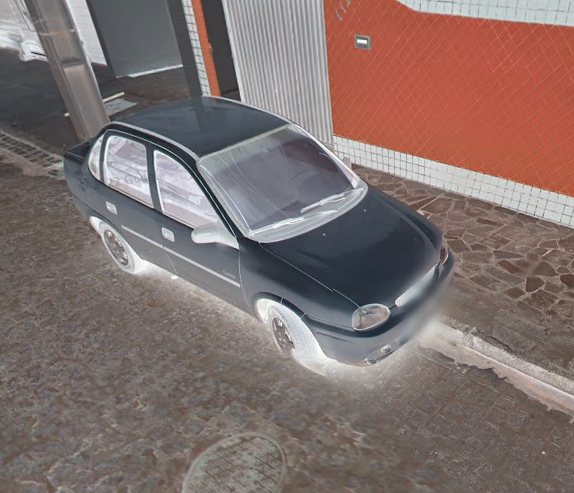car: (60, 92, 455, 369)
